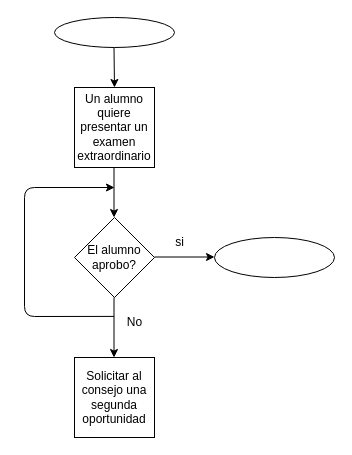
This 352x455 diagram has some shape labels left out. Each missing label, with the box of its shape:
Fin: (214, 236, 334, 278)
Inicio: (54, 16, 174, 48)
